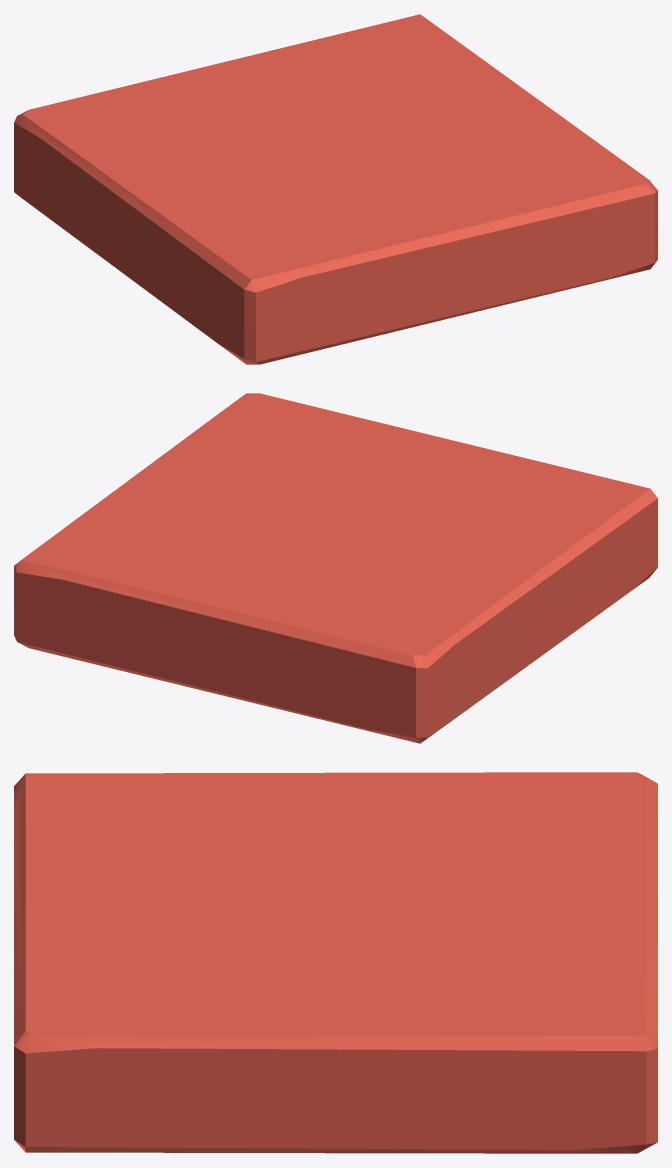
The model's file is GroundGoal.fbx.
3 renders of one model, top to bottom at view 1: azimuth 30°, elevation 25°; view 2: azimuth 150°, elevation 25°; view 3: azimuth 270°, elevation 25°, orthographic. The views are drawn at different scales.
Parts seen in each view (by area): view 1: Floor:pCube1; view 2: Floor:pCube1; view 3: Floor:pCube1.
Boxes of the visible parts, x1,y1,x2,y2 form: Floor:pCube1: (14,14,657,364); Floor:pCube1: (14,393,657,743); Floor:pCube1: (14,772,657,1153).
Bounding box in the file's own units: 1 × 0.2 × 1.
